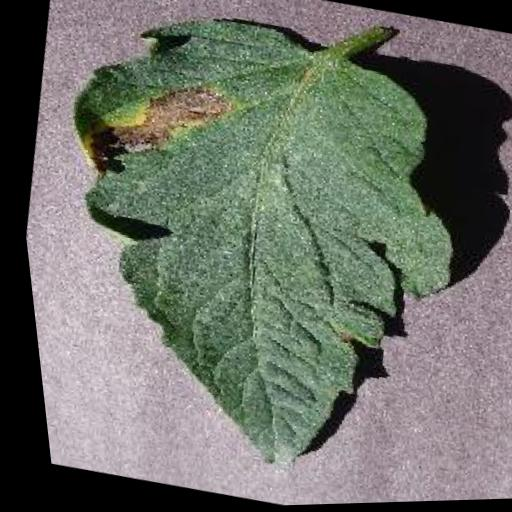Early Blight: (0, 0, 504, 503)
